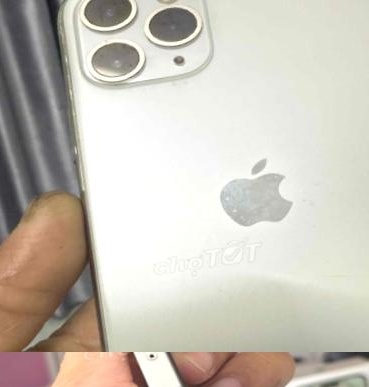scratch: (131, 142, 356, 261), (50, 13, 108, 182)
